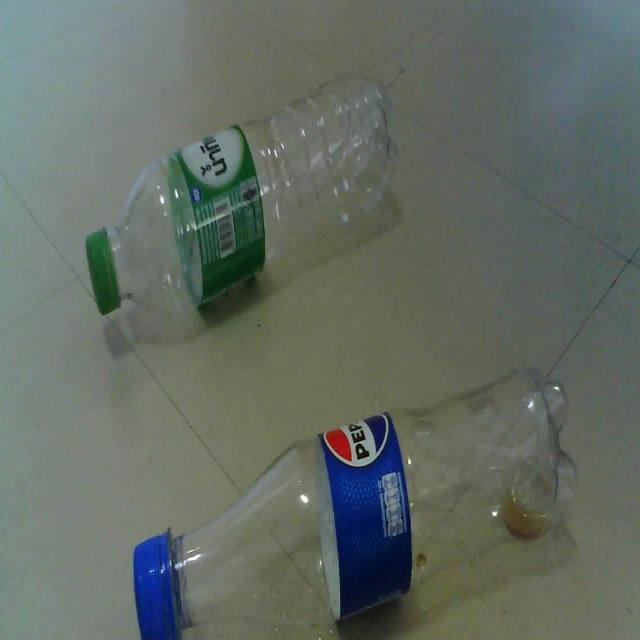empty: (134, 370, 574, 639), (86, 76, 395, 341)
